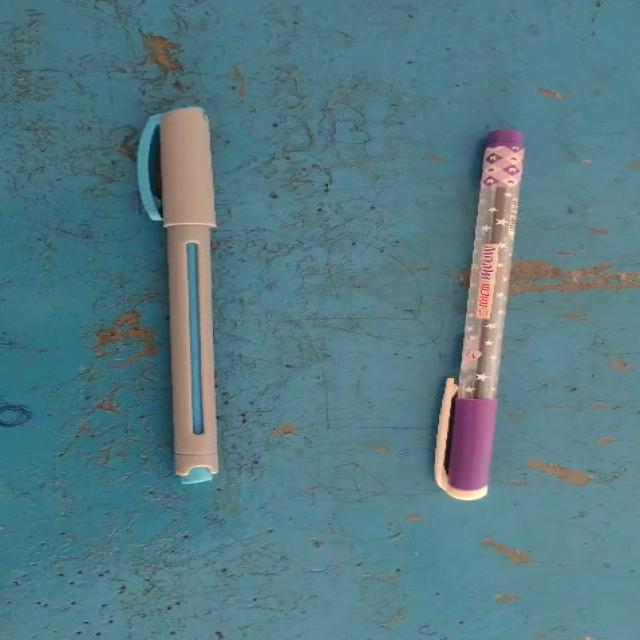pen: (47, 30, 301, 528), (410, 91, 568, 527)
